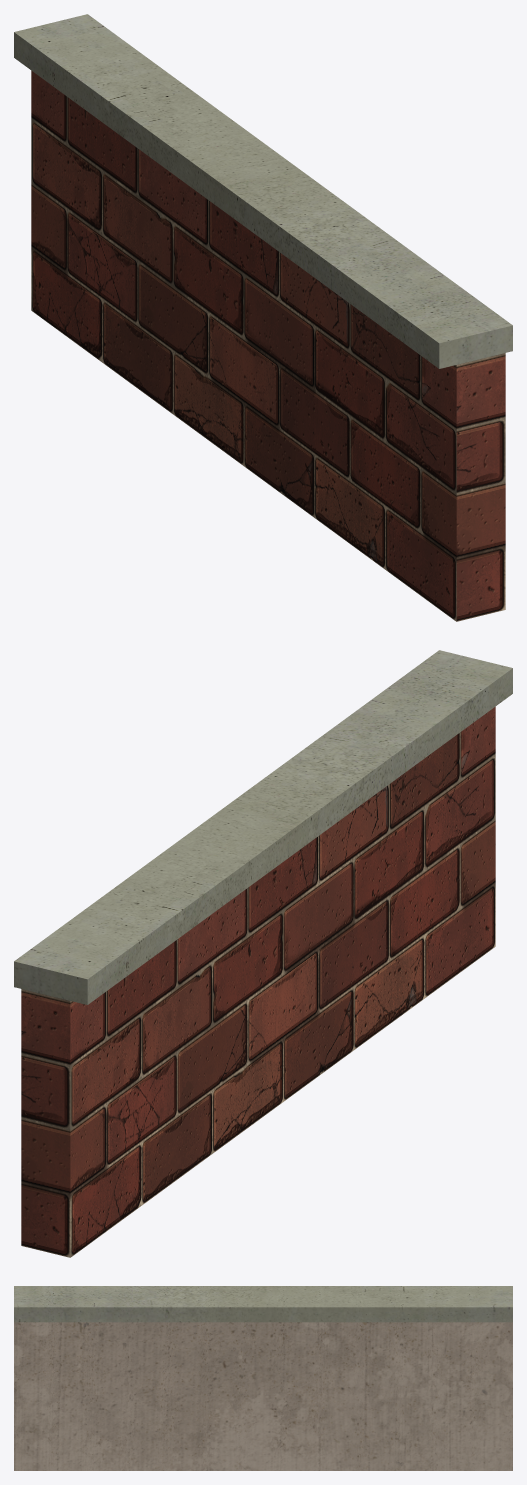
The model's file is roof03_edge.fbx.
3 renders of one model, top to bottom at view 1: azimuth 30°, elevation 25°; view 2: azimuth 150°, elevation 25°; view 3: azimuth 270°, elevation 25°, orthographic. The views are drawn at different scales.
Parts seen in each view (by area): view 1: roof03_edge; view 2: roof03_edge; view 3: roof03_edge.
Boxes of the visible parts, x1=… form: roof03_edge: x1=14, y1=14, x2=512, y2=621; roof03_edge: x1=14, y1=650, x2=512, y2=1257; roof03_edge: x1=14, y1=1286, x2=512, y2=1470.
Size of the model in its own units: 30 by 110 by 300.
